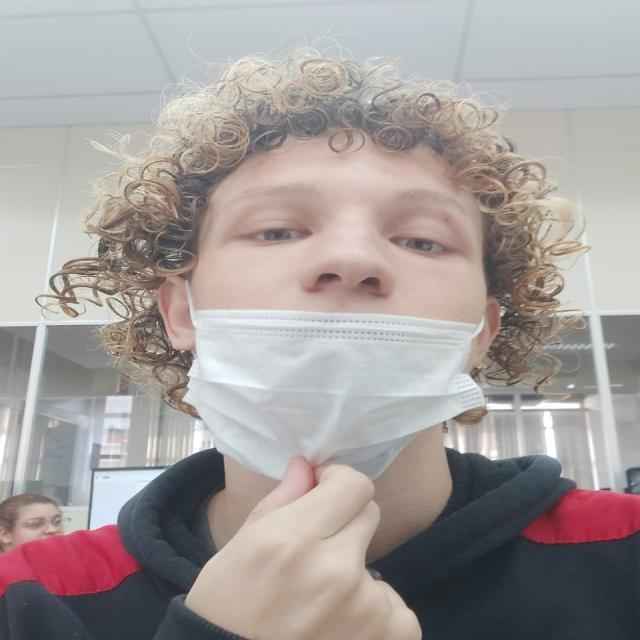hairnet: (187, 239, 470, 424)
